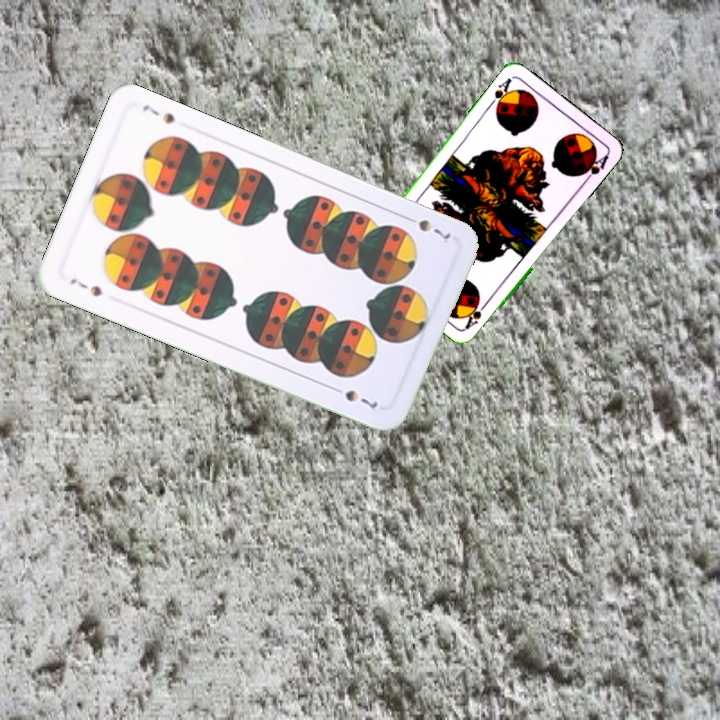S7: (400, 211, 454, 246), (66, 274, 104, 300)
SA: (485, 73, 514, 112), (461, 296, 492, 331)
